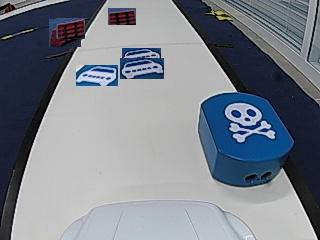danger: (227, 104, 274, 143)
